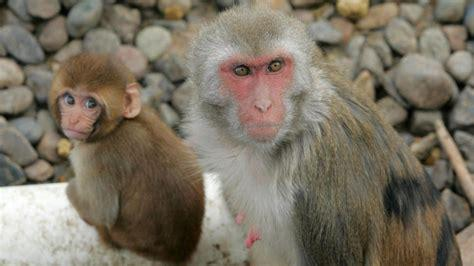monkey: (192, 13, 460, 266), (49, 46, 204, 263)
